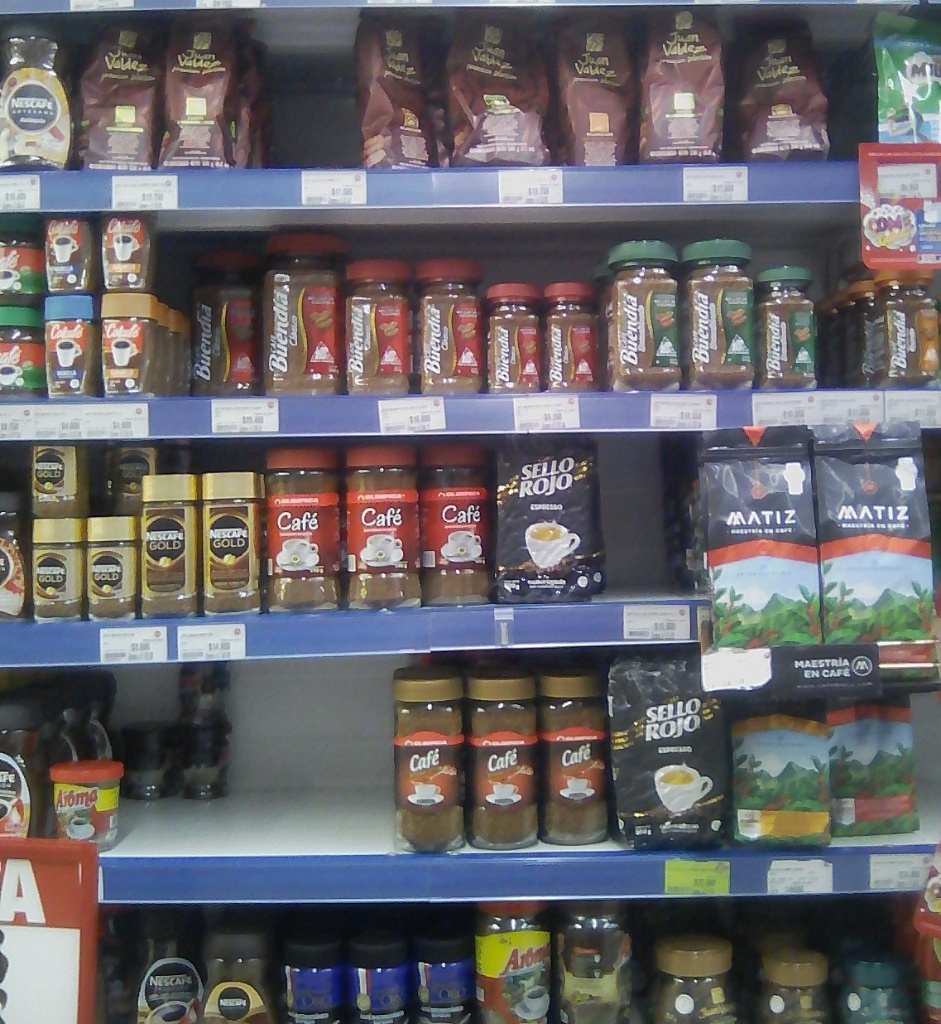COL0170205DYP20000: (869, 9, 936, 145)
